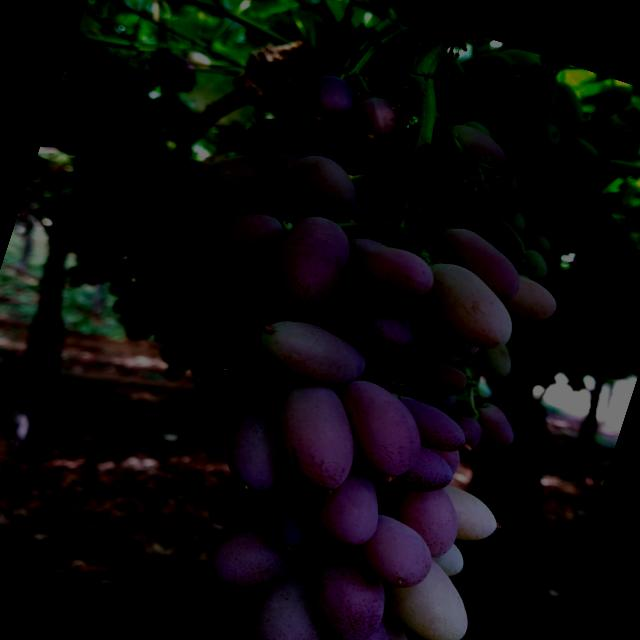grapes: (258, 372, 372, 496), (361, 534, 485, 640), (320, 375, 431, 487), (202, 502, 314, 610), (260, 208, 360, 327), (192, 125, 310, 224), (292, 535, 400, 640), (248, 310, 374, 400), (180, 195, 284, 304), (312, 274, 424, 368), (417, 261, 526, 356), (212, 395, 308, 498), (373, 466, 474, 558), (304, 451, 394, 554), (245, 550, 346, 640), (420, 220, 526, 304), (192, 294, 288, 385), (344, 236, 436, 316), (279, 148, 370, 228), (354, 511, 440, 594), (264, 480, 344, 560), (344, 92, 422, 172), (214, 355, 297, 427), (389, 292, 466, 367), (201, 472, 280, 540), (394, 398, 474, 460), (428, 485, 505, 549), (384, 438, 458, 501), (295, 68, 363, 136), (412, 170, 483, 235), (300, 102, 365, 170), (442, 122, 514, 182), (438, 170, 501, 238), (396, 352, 470, 406), (498, 272, 560, 334), (326, 592, 405, 640), (235, 111, 299, 170), (184, 397, 244, 458), (528, 146, 596, 198), (465, 398, 524, 455), (511, 64, 564, 126), (270, 77, 326, 135), (456, 43, 516, 97), (474, 72, 530, 128), (560, 187, 617, 241), (228, 273, 284, 324), (255, 190, 314, 238), (470, 331, 520, 387), (190, 364, 242, 414), (544, 81, 592, 134), (568, 124, 624, 168), (266, 464, 317, 508), (441, 409, 488, 456), (532, 182, 580, 226), (588, 239, 640, 279), (437, 86, 482, 132), (572, 155, 620, 198), (502, 133, 542, 180), (426, 537, 468, 581), (514, 216, 560, 256), (522, 116, 566, 157), (592, 77, 634, 119), (558, 130, 603, 168), (511, 246, 553, 286), (496, 44, 542, 80), (486, 201, 531, 237), (491, 160, 525, 200), (82, 227, 124, 258), (444, 332, 484, 364), (114, 190, 152, 222), (88, 90, 120, 123), (82, 167, 115, 196), (67, 56, 101, 84), (110, 106, 145, 132), (59, 86, 92, 112), (116, 173, 148, 199), (119, 156, 151, 182), (138, 205, 168, 232), (535, 54, 572, 75), (377, 621, 417, 640), (299, 66, 327, 92), (111, 76, 136, 105), (163, 283, 190, 308), (121, 302, 145, 328), (588, 191, 614, 214), (629, 246, 640, 298), (164, 362, 186, 382)
